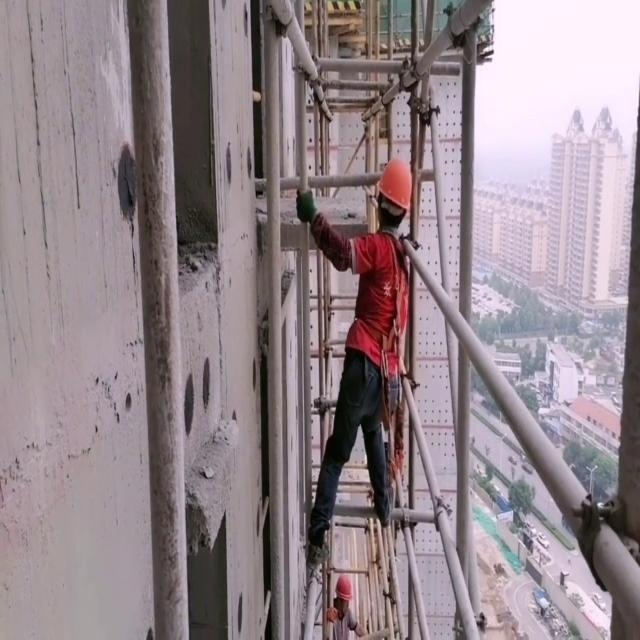Arnes_seguridad: (350, 220, 414, 381)
